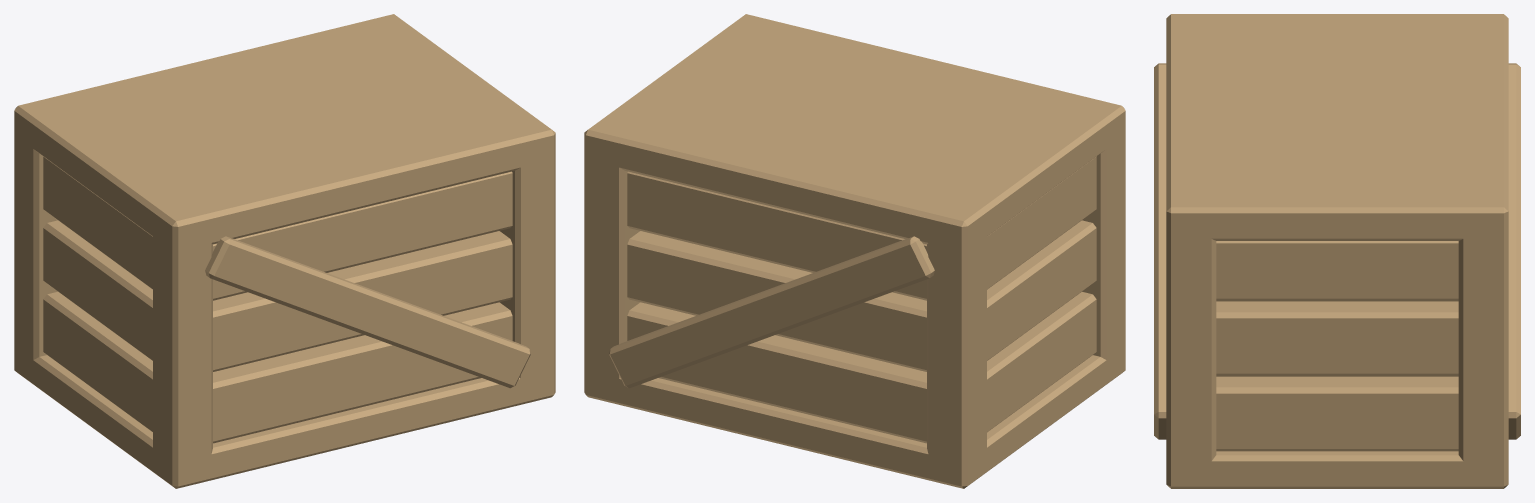
The model's file is crate.glb.
3 renders of one model, left to right at view 1: azimuth 30°, elevation 25°; view 2: azimuth 150°, elevation 25°; view 3: azimuth 270°, elevation 25°, orthographic. The views are drawn at different scales.
Visible parts, largest first — view 1: Crate_Wood; view 2: Crate_Wood; view 3: Crate_Wood.
Boxes of the visible parts, x1=… form: Crate_Wood: x1=14, y1=14, x2=555, y2=488; Crate_Wood: x1=584, y1=14, x2=1125, y2=488; Crate_Wood: x1=1154, y1=14, x2=1520, y2=488.
Size of the model in its own units: 3 by 2 by 2.36.
